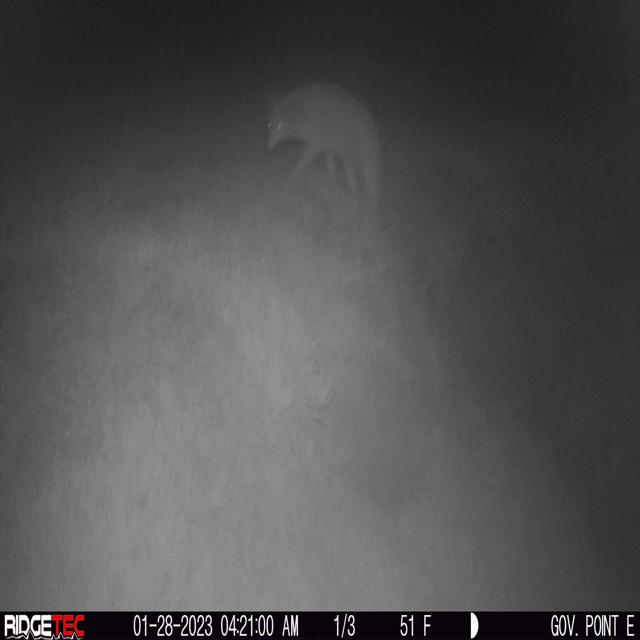coyote: (262, 80, 386, 209)
